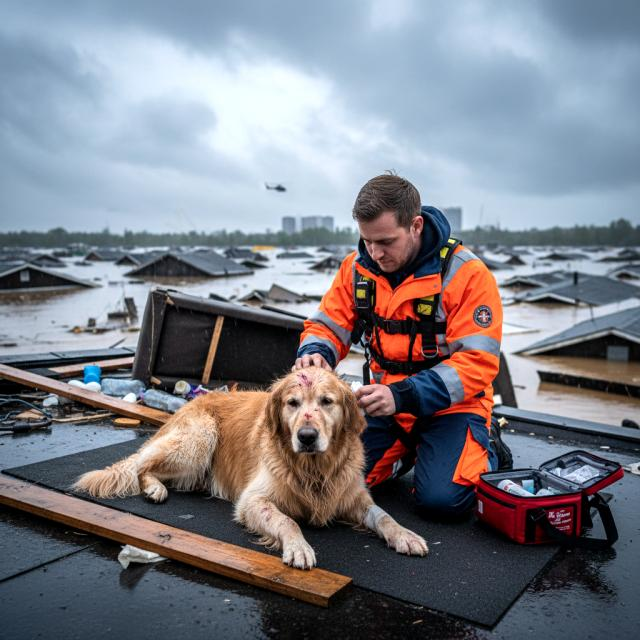dog: (79, 356, 439, 577)
rescuer: (290, 172, 522, 524)
